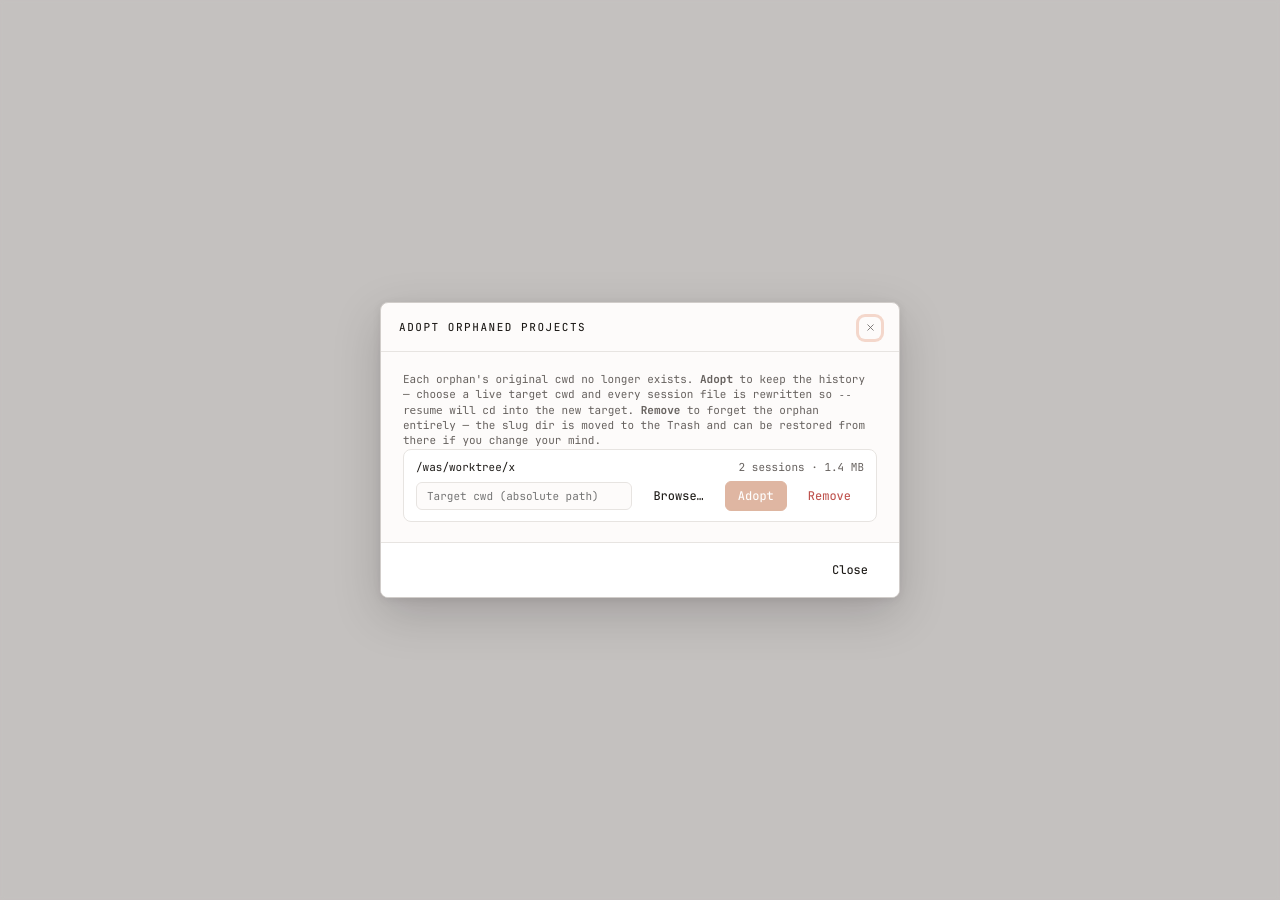
Scenario: AdoptOrphansModal › pre-fills target when Browse returns a picked path
Click the button "Browse…": (679, 496) [640, 481, 717, 511]
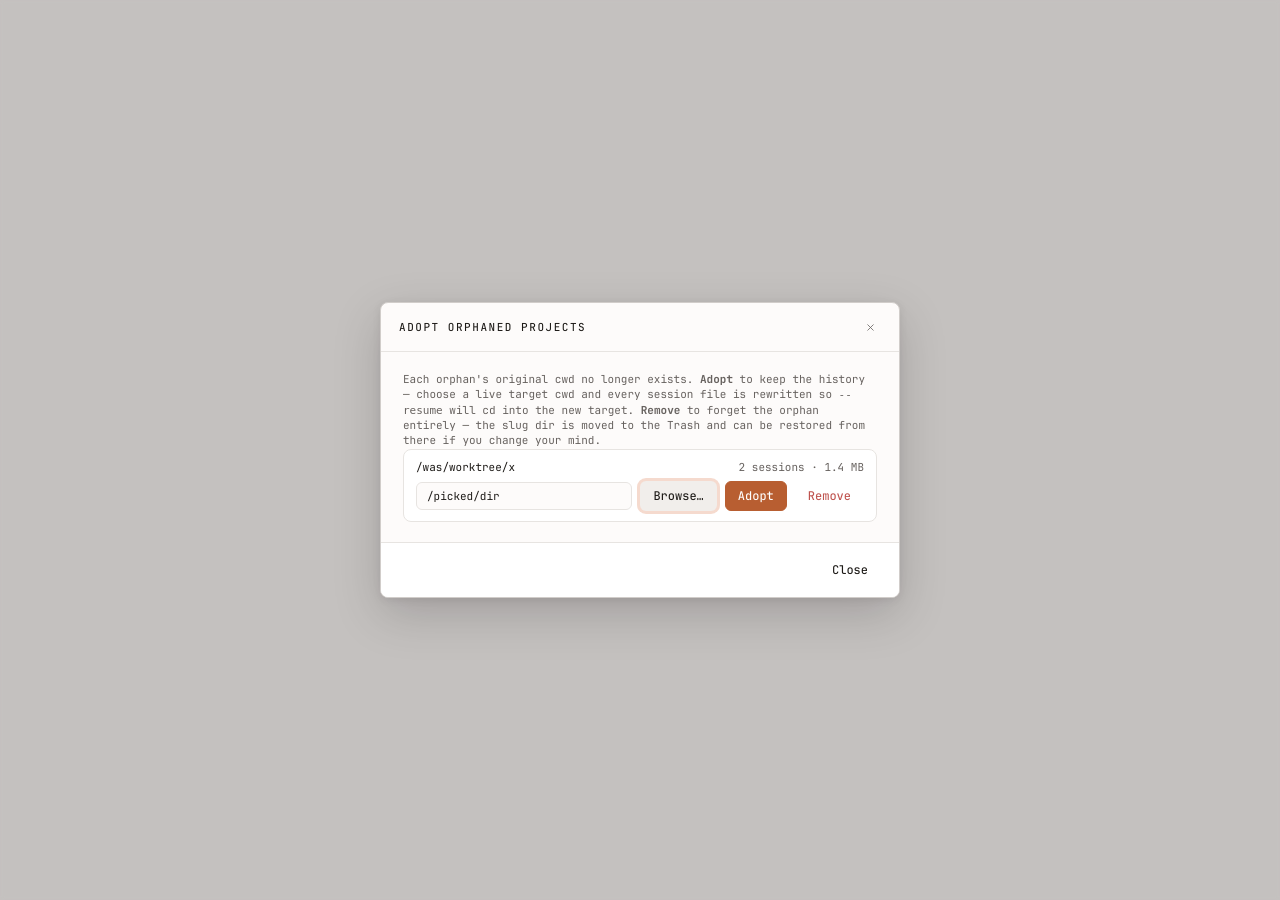
Expected: the field showing "/picked/dir" is shown, [416, 482, 632, 510]
